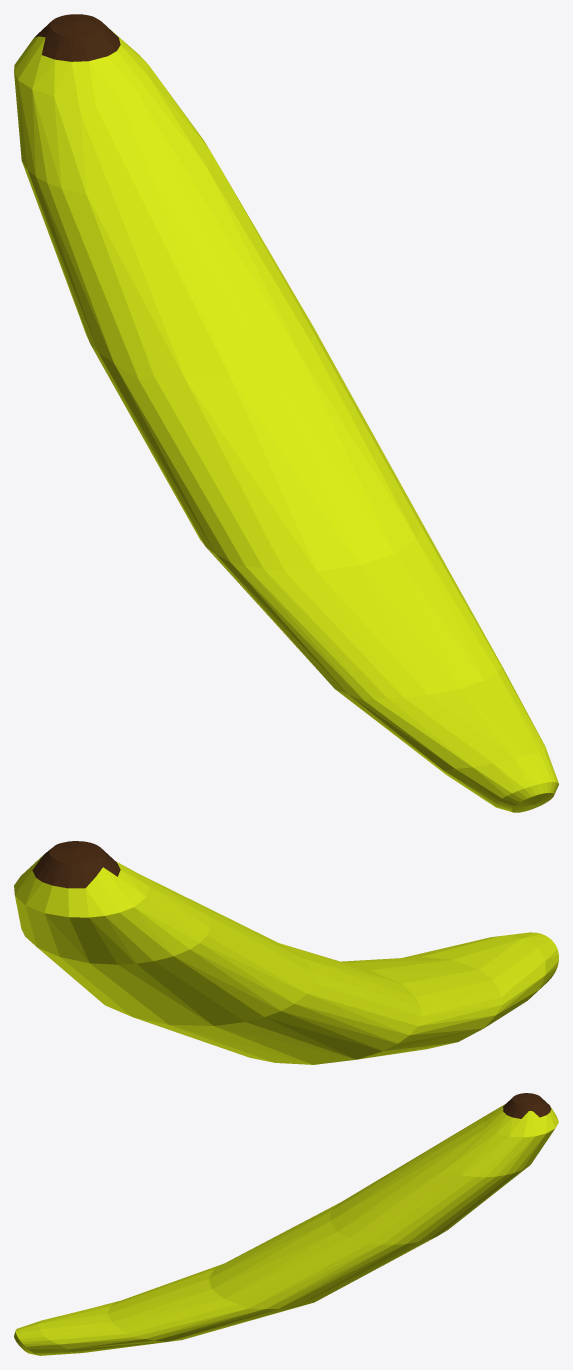
The model's file is banana.fbx.
3 renders of one model, top to bottom at view 1: azimuth 30°, elevation 25°; view 2: azimuth 150°, elevation 25°; view 3: azimuth 270°, elevation 25°, orthographic. The views are drawn at different scales.
Visible parts, largest first — view 1: Cylinder; view 2: Cylinder; view 3: Cylinder.
Boxes of the visible parts, x1,y1,x2,y2 form: Cylinder: (14,14,558,812); Cylinder: (14,841,558,1064); Cylinder: (14,1093,558,1355).
Size of the model in its own units: 170 by 385 by 742.
